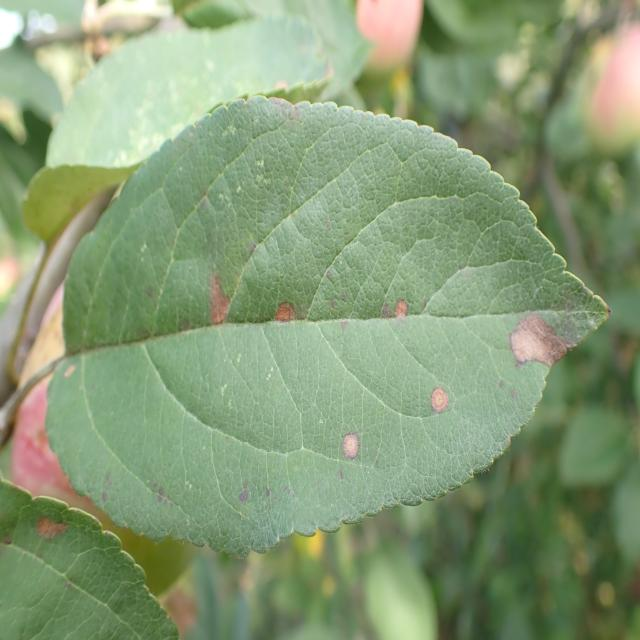frog-eye-leaf-spot: (45, 94, 613, 556)
